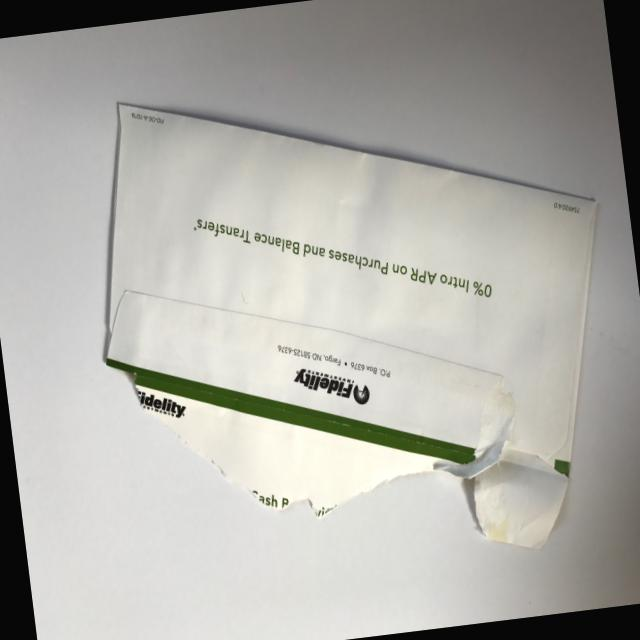Paper: (47, 0, 640, 621)
